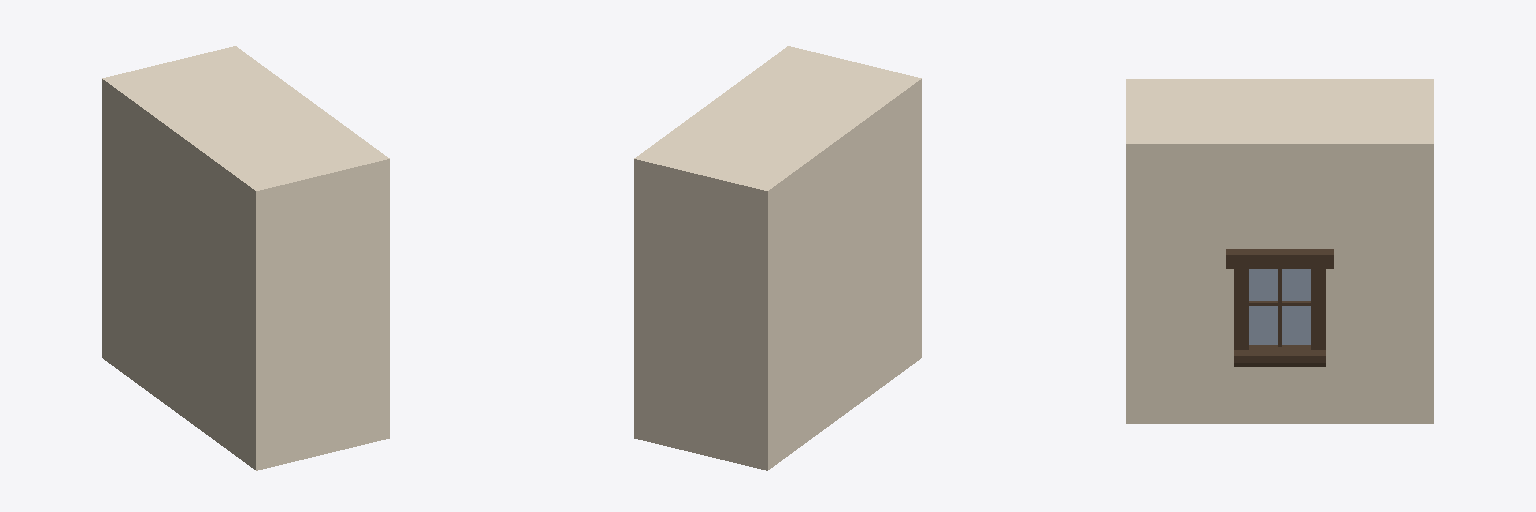
Rendered from Stucco_Window_Single_Wide_Tall.obj.
The picture shows the model from 3 angles: view 1: azimuth 30°, elevation 25°; view 2: azimuth 150°, elevation 25°; view 3: azimuth 270°, elevation 25°; orthographic projection.
Visible parts, largest first — view 1: object1; view 2: object1; view 3: object1, object3, object2.
Part boxes in pixels (left/top/right/bottom): object1: left=102, top=46, right=389, bottom=470; object1: left=634, top=46, right=921, bottom=470; object1: left=1126, top=79, right=1433, bottom=423; object3: left=1226, top=249, right=1333, bottom=366; object2: left=1249, top=269, right=1310, bottom=346.
Bounding box in the file's own units: 1.15 × 2 × 2.